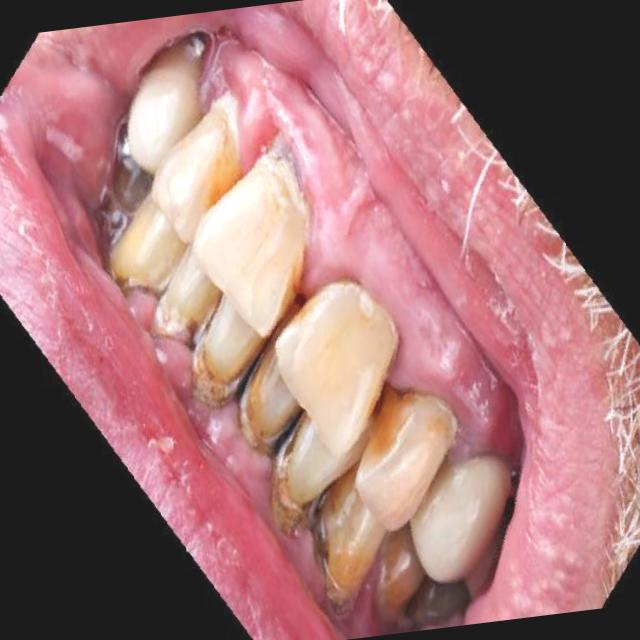calculus: (149, 119, 262, 218), (260, 412, 353, 528), (186, 302, 269, 403), (231, 354, 305, 447)
